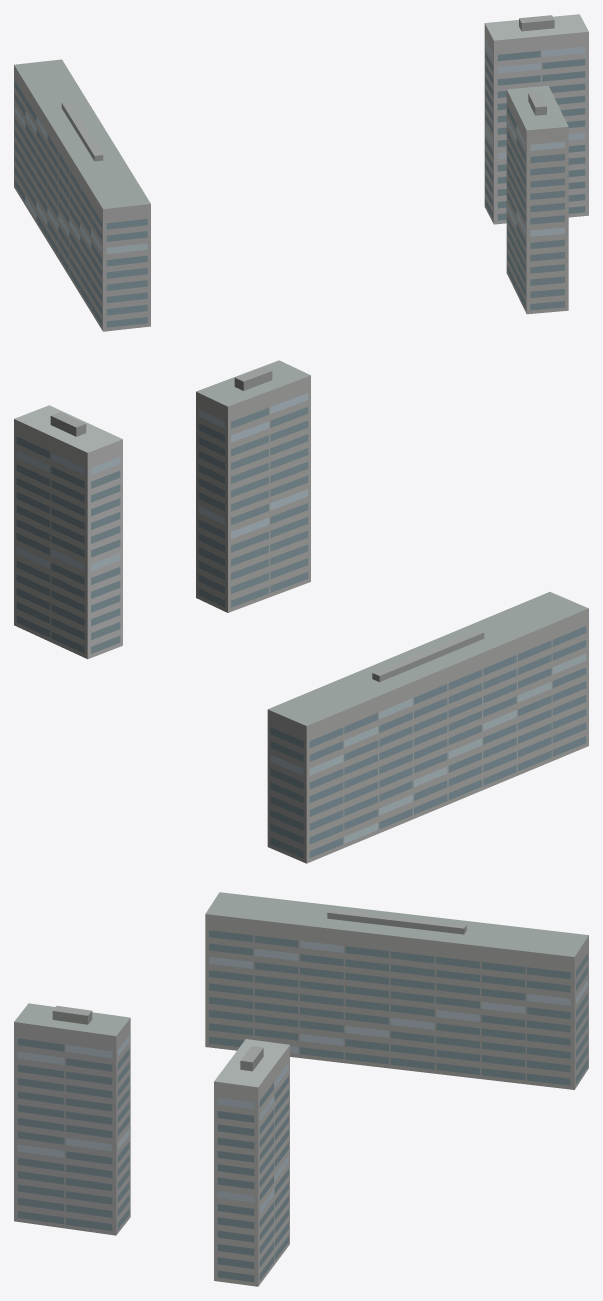
File: apt-a15083701.glb
3 views of the same model, one above another, from view 1: azimuth 30°, elevation 25°; view 2: azimuth 150°, elevation 25°; view 3: azimuth 270°, elevation 25° (orthographic). The views are drawn at different scales.
Visible parts, largest first — view 1: apt-a15083701; view 2: apt-a15083701; view 3: apt-a15083701.
Part boxes in pixels (x1,y1,x2,y2): apt-a15083701: (14, 14, 588, 331); apt-a15083701: (14, 360, 588, 863); apt-a15083701: (14, 892, 588, 1286).
Bounding box in the file's own units: 129 × 47.81 × 120.
